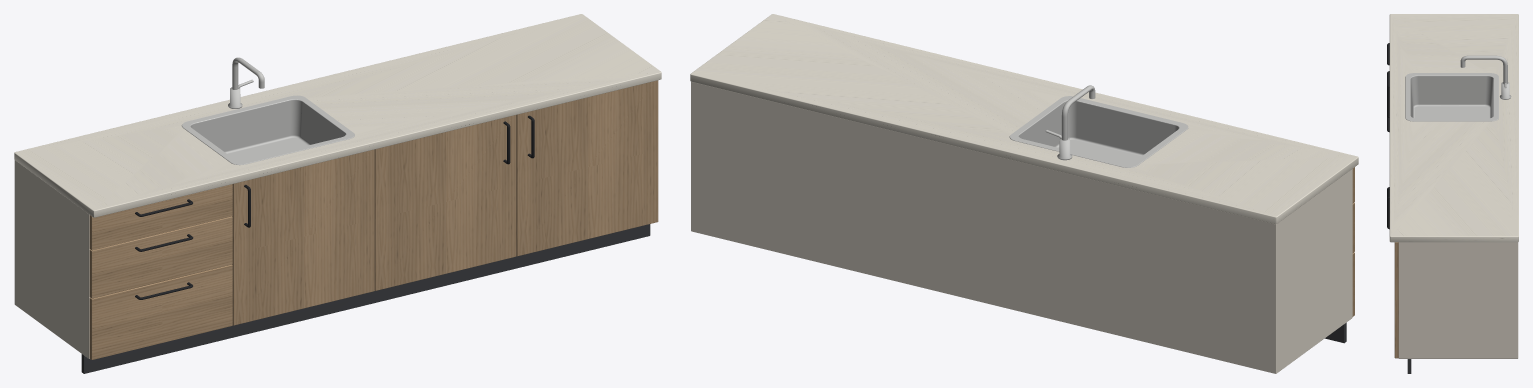
The picture shows the model from 3 angles, left to right: view 1: azimuth 30°, elevation 25°; view 2: azimuth 150°, elevation 25°; view 3: azimuth 270°, elevation 25°; orthographic projection. The views are drawn at different scales.
Visible parts, largest first — view 1: worktop, door_3, door_1, door_2, panel_0, drawer_0_2, plinth, sink, drawer_0_1, drawer_0_0; view 2: back_panel, worktop, panel_0, sink, bottom, panel_2, panel_4; view 3: worktop, panel_4, sink, door_3, mixer_spout, mixer_base.
Boxes of the visible parts, x1,y1,x2,y2 form: worktop: (14,14,661,217); door_3: (516,80,658,256); door_1: (232,149,374,325); door_2: (374,115,516,290); panel_0: (14,160,89,358); drawer_0_2: (89,264,232,359); plinth: (81,224,650,373); sink: (181,95,354,165); drawer_0_1: (89,216,232,298); drawer_0_0: (89,184,232,250); back_panel: (693,82,1273,373); worktop: (690,14,1358,224); panel_0: (1272,169,1352,373); sink: (1009,96,1188,167); bottom: (697,230,1273,372); panel_2: (981,153,985,302); panel_4: (691,81,694,231); worktop: (1389,14,1518,242); panel_4: (1398,242,1518,358); sink: (1405,73,1498,121); door_3: (1394,242,1398,358); mixer_spout: (1460,55,1507,83); mixer_base: (1500,82,1511,99).
Size of the model in its own units: 2.4 by 0.9 by 0.6.
8 materials, 3 textured.
